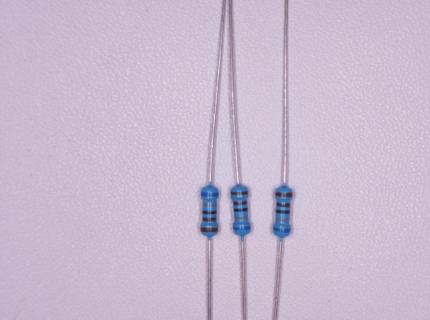Black band: (233, 207, 248, 212), (276, 209, 290, 214), (203, 211, 217, 215)
Blue band: (273, 227, 291, 233), (201, 192, 218, 196), (233, 226, 250, 230)
Brown band: (275, 192, 292, 197), (276, 202, 290, 207), (231, 191, 248, 195), (201, 228, 218, 232), (233, 201, 247, 205), (203, 217, 216, 221)
Grey band: (234, 216, 248, 220), (275, 217, 289, 221), (203, 203, 216, 207)
